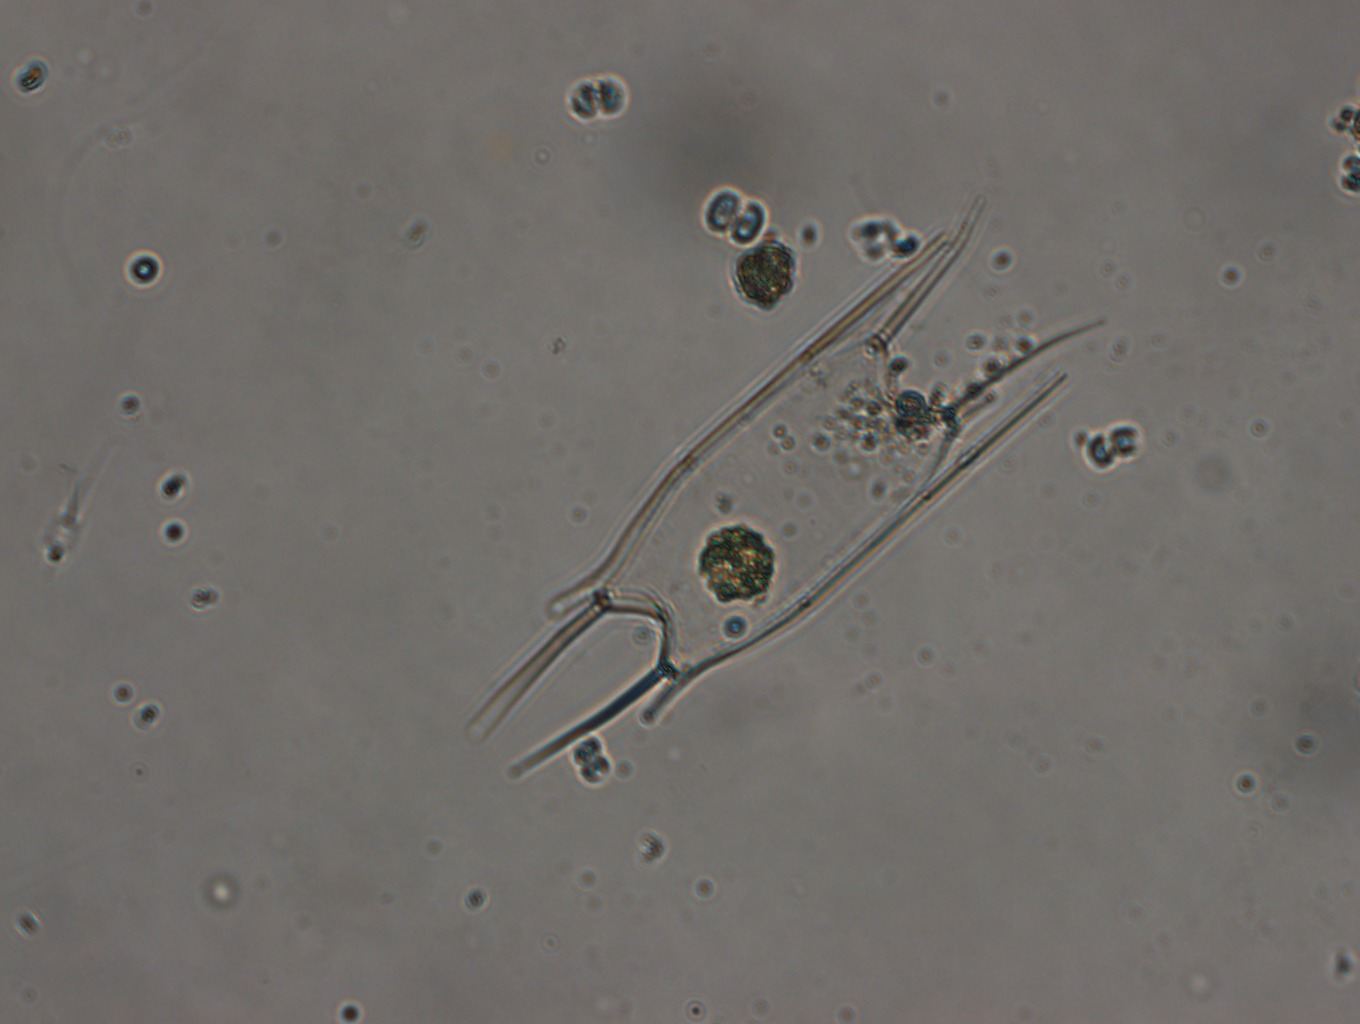biddulphia: (468, 214, 1139, 766)
